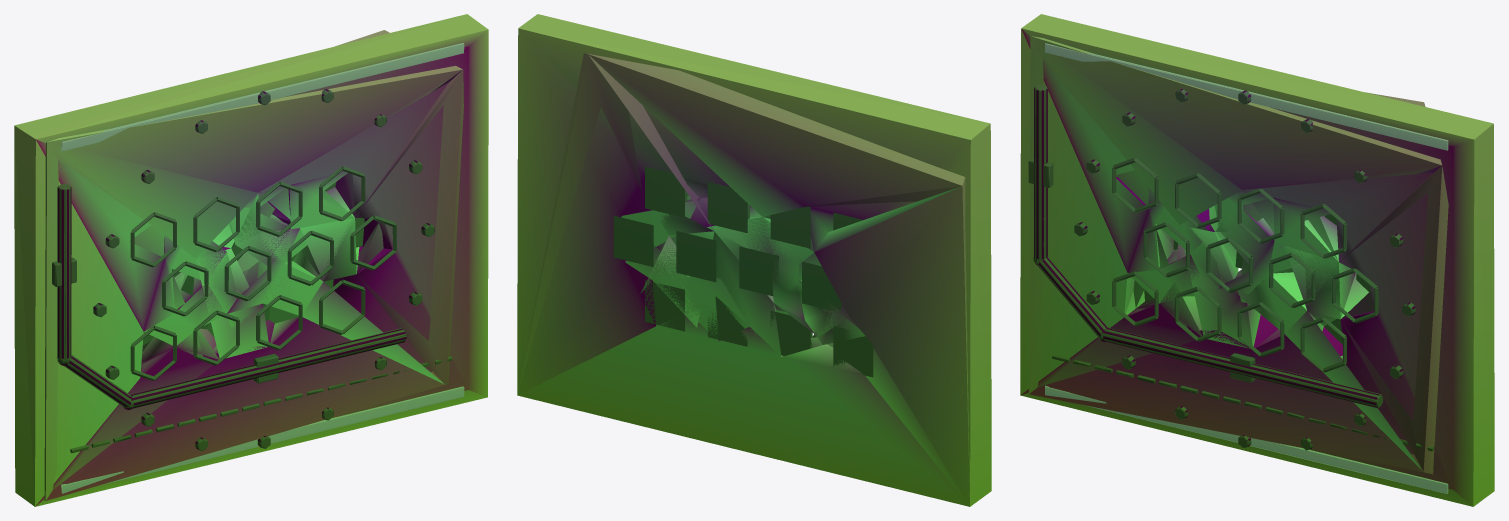
File: RCLModule_bastion_siege_mech_cryo_glacier_camo_sponsons_LODs.fbx
3 views of the same model, side by side, from view 1: azimuth 30°, elevation 25°; view 2: azimuth 150°, elevation 25°; view 3: azimuth 330°, elevation 25° (orthographic).
Visible parts, largest first — view 1: LOD1_RCLModule_bastion_siege_mech_cryo_glacier_camo_sponsons (×3), LOD2_RCLModule_bastion_siege_mech_cryo_glacier_camo_sponsons (×2); view 2: LOD1_RCLModule_bastion_siege_mech_cryo_glacier_camo_sponsons (×2), LOD2_RCLModule_bastion_siege_mech_cryo_glacier_camo_sponsons; view 3: LOD1_RCLModule_bastion_siege_mech_cryo_glacier_camo_sponsons (×3), LOD2_RCLModule_bastion_siege_mech_cryo_glacier_camo_sponsons (×2).
Boxes of the visible parts, x1=… form: LOD1_RCLModule_bastion_siege_mech_cryo_glacier_camo_sponsons (×3): x1=14, y1=14, x2=488, y2=506; LOD2_RCLModule_bastion_siege_mech_cryo_glacier_camo_sponsons (×2): x1=44, y1=30, x2=463, y2=500; LOD1_RCLModule_bastion_siege_mech_cryo_glacier_camo_sponsons (×2): x1=517, y1=14, x2=991, y2=506; LOD2_RCLModule_bastion_siege_mech_cryo_glacier_camo_sponsons: x1=517, y1=53, x2=969, y2=506; LOD1_RCLModule_bastion_siege_mech_cryo_glacier_camo_sponsons (×3): x1=1020, y1=14, x2=1494, y2=506; LOD2_RCLModule_bastion_siege_mech_cryo_glacier_camo_sponsons (×2): x1=1028, y1=36, x2=1448, y2=474.
Bounding box in the file's own units: 35.63 × 27.64 × 4.83.
